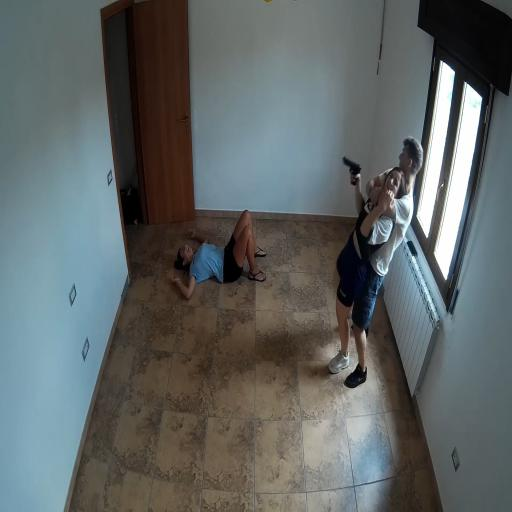violencia: (320, 101, 430, 414)
